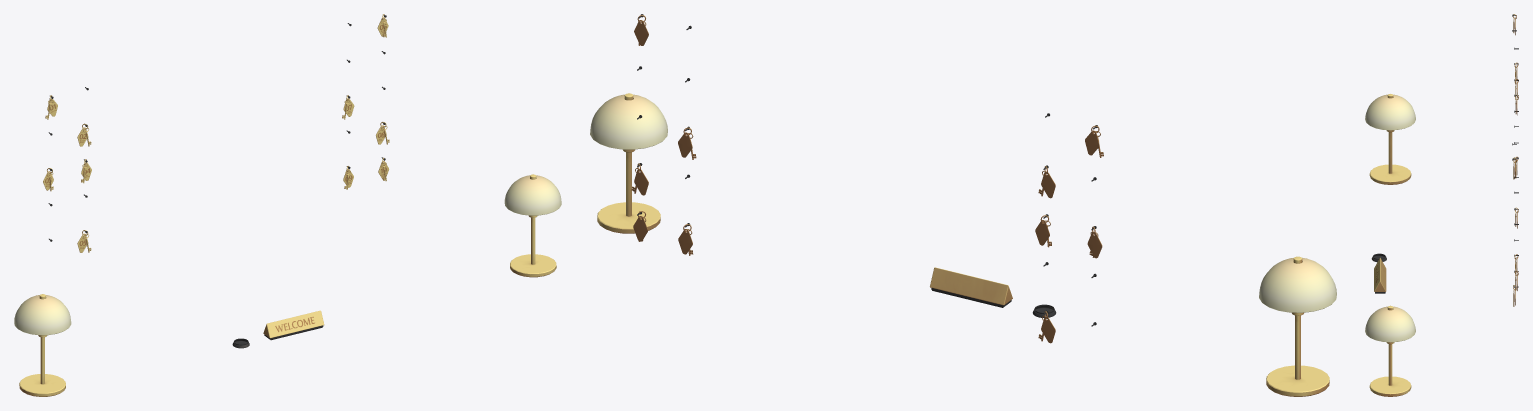
File: CommunityRoomB_ConciergeProp.fbx
The picture shows the model from 3 angles, left to right: view 1: azimuth 30°, elevation 25°; view 2: azimuth 150°, elevation 25°; view 3: azimuth 270°, elevation 25°; orthographic projection. The views are drawn at different scales.
Parts seen in each view (by area): view 1: CommunityRoomB_ConciergeProp; view 2: CommunityRoomB_ConciergeProp; view 3: CommunityRoomB_ConciergeProp.
Part boxes in pixels (left/top/right/bottom): CommunityRoomB_ConciergeProp: left=14, top=14, right=561, bottom=396; CommunityRoomB_ConciergeProp: left=590, top=14, right=1336, bottom=396; CommunityRoomB_ConciergeProp: left=1365, top=14, right=1518, bottom=396.
Size of the model in its own units: 409 by 160 by 114.
